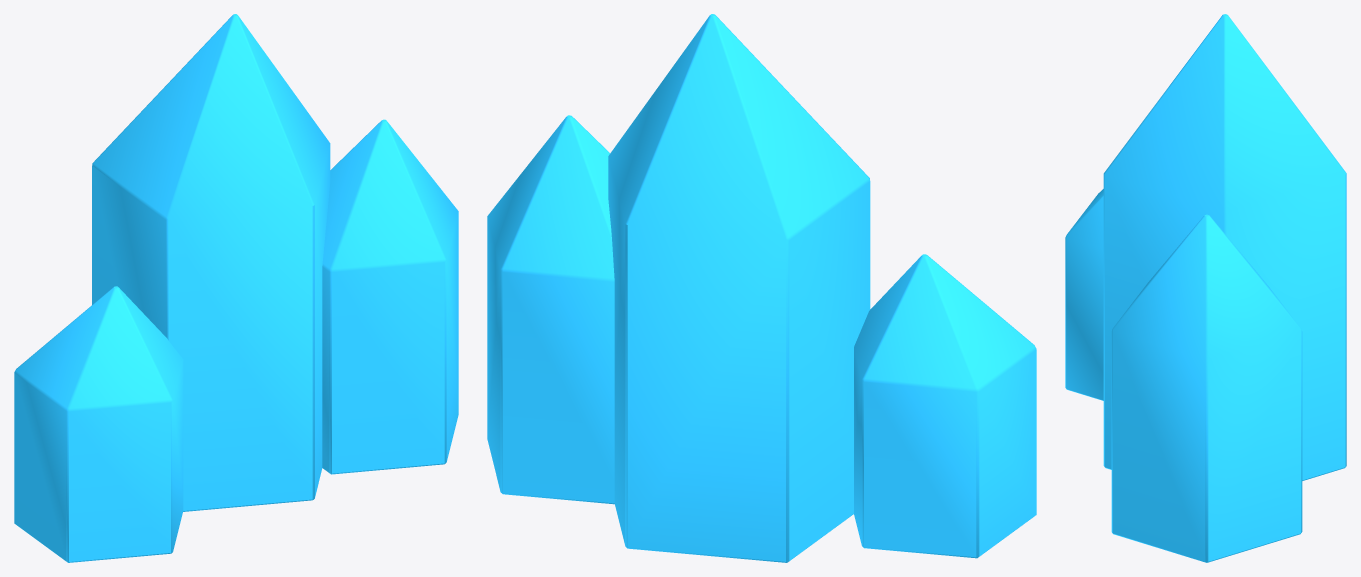
The model's file is crystal_cluster_small_01.glb.
The picture shows the model from 3 angles, left to right: view 1: azimuth 30°, elevation 25°; view 2: azimuth 150°, elevation 25°; view 3: azimuth 270°, elevation 25°; orthographic projection. The views are drawn at different scales.
Visible parts, largest first — view 1: crystal_cluster_small_01; view 2: crystal_cluster_small_01; view 3: crystal_cluster_small_01.
Part boxes in pixels (<box>): crystal_cluster_small_01: <box>14,14,458,562</box>; crystal_cluster_small_01: <box>487,14,1036,562</box>; crystal_cluster_small_01: <box>1065,14,1346,562</box>.
Bounding box in the file's own units: 0.5597 × 0.5353 × 0.307.
